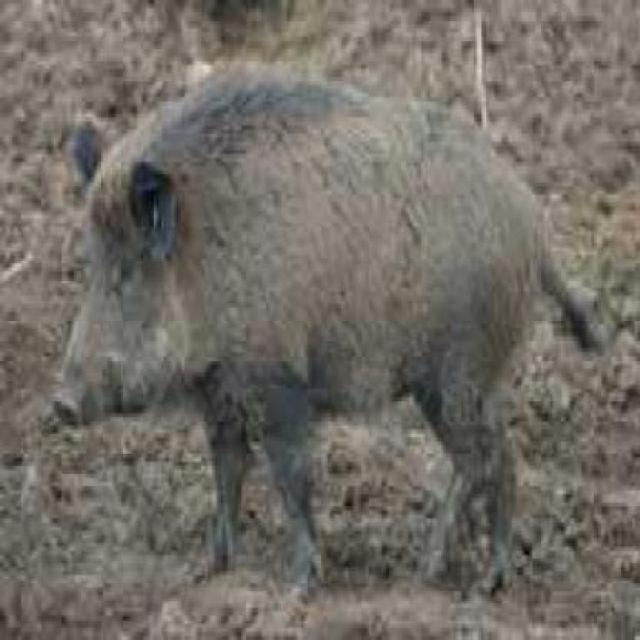Boar: (52, 77, 605, 598)
